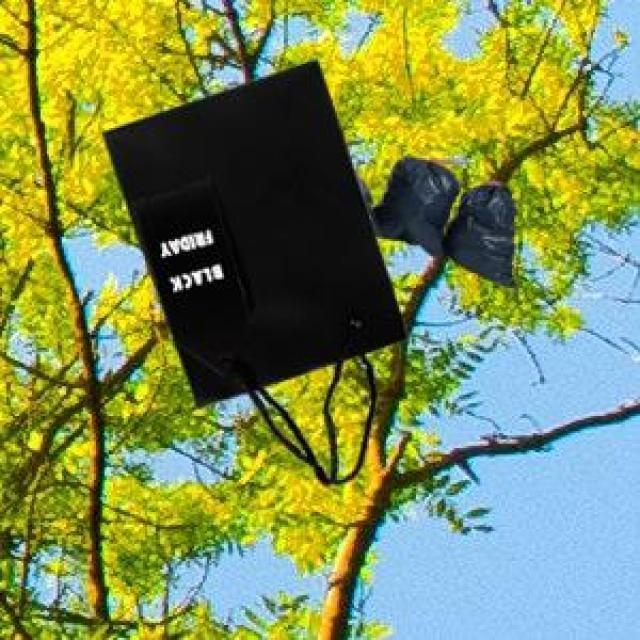miscellaneous trash: (352, 154, 514, 284)
paper: (98, 56, 403, 482)
